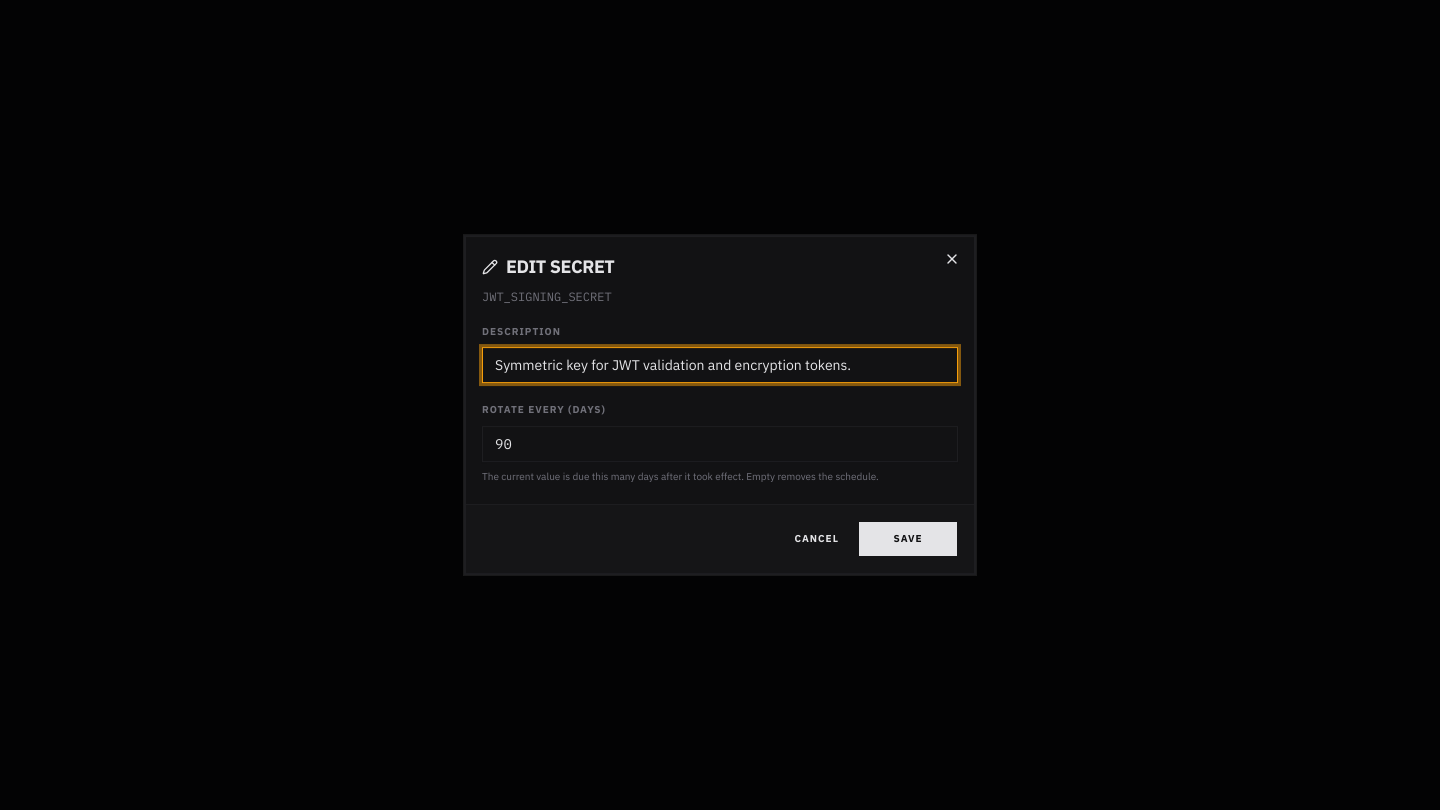
Scenario: EditSecretModal › rejects an out-of-range interval without calling the API
Replace the text in the number field labelled "Rotate every (days)" with "0": coordinates (720, 444) top-left (482, 426), bottom-right (958, 462)
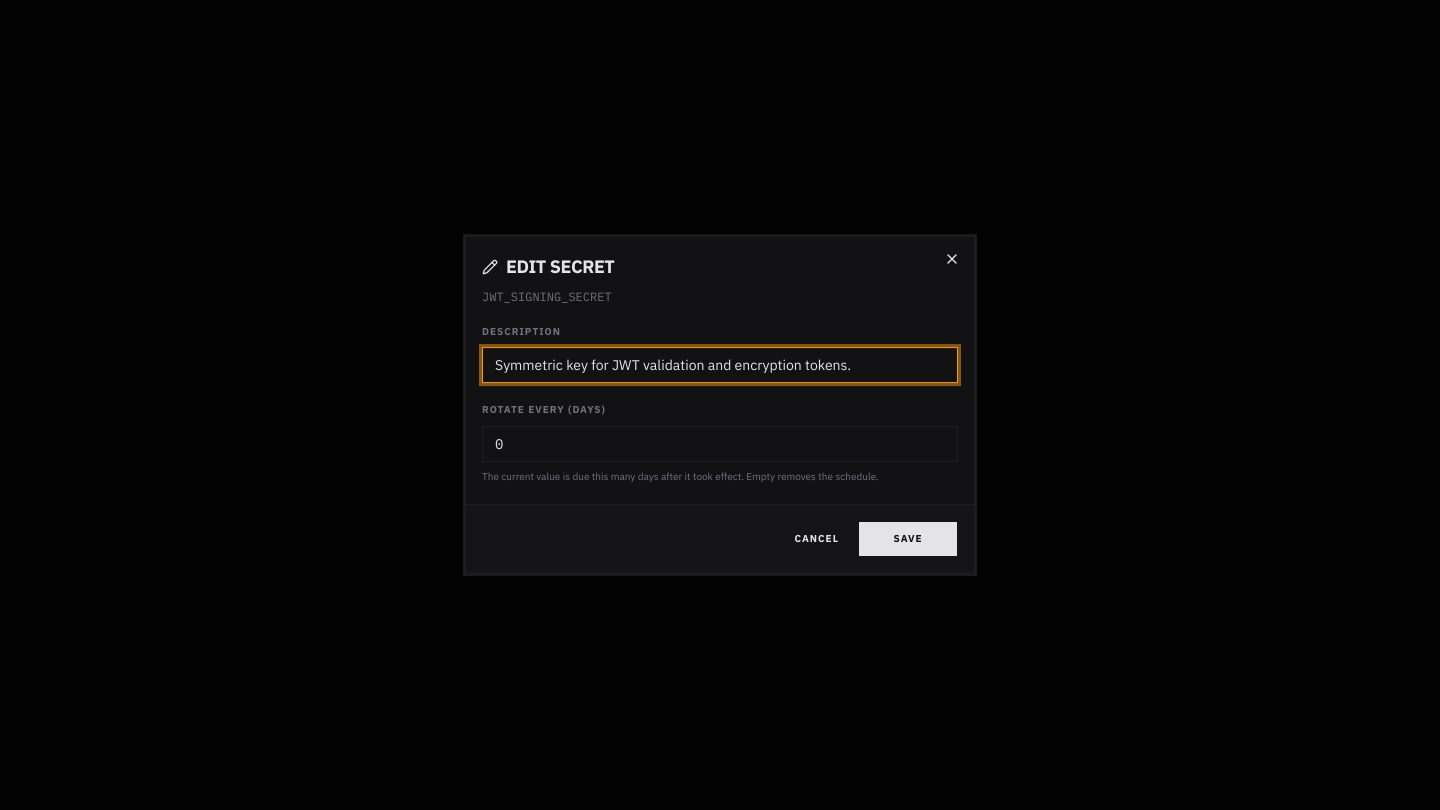
Click the button "Save": coordinates (908, 539) top-left (858, 521), bottom-right (958, 557)
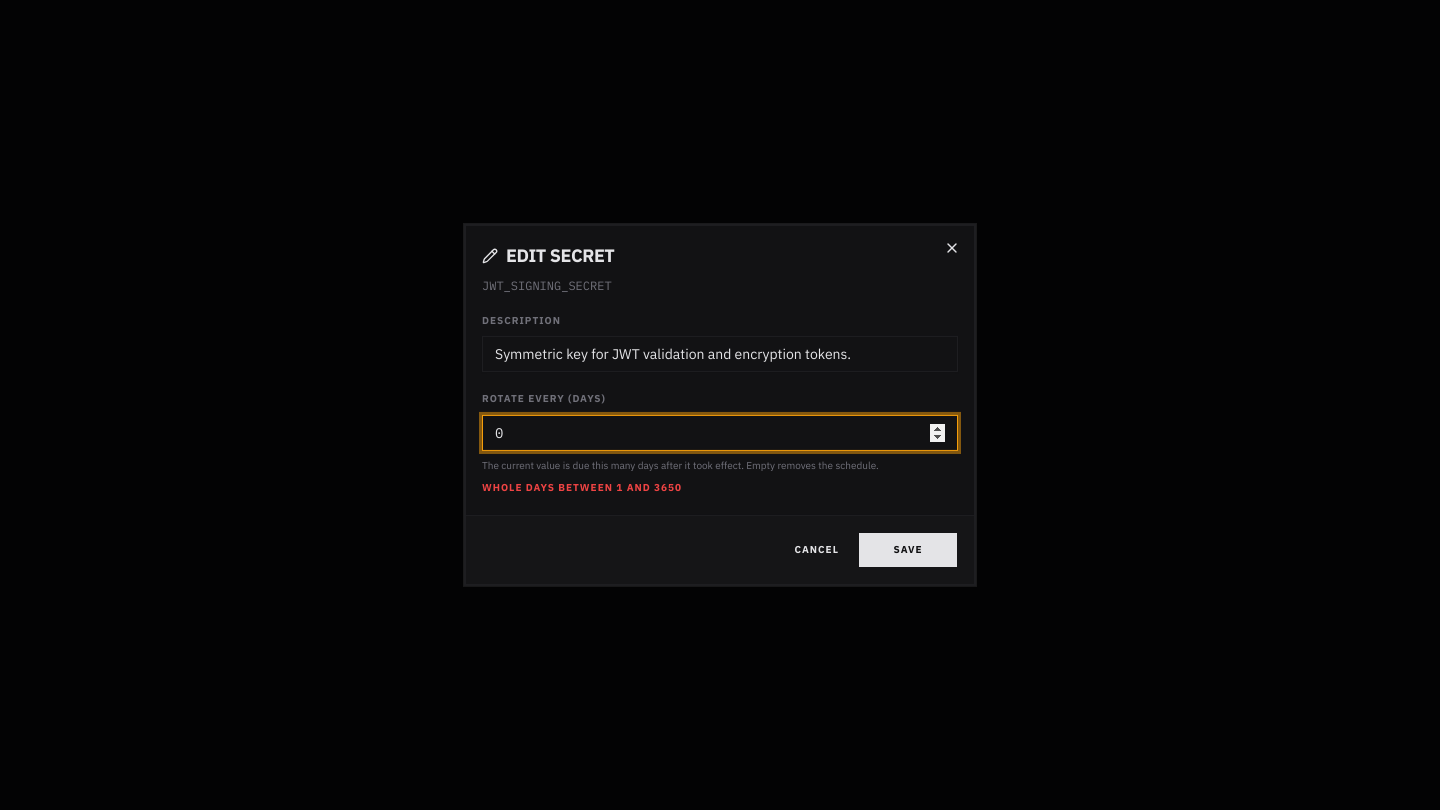
Result: the text "Whole days between 1 and 3650" is shown at top-left (482, 481), bottom-right (682, 494)
